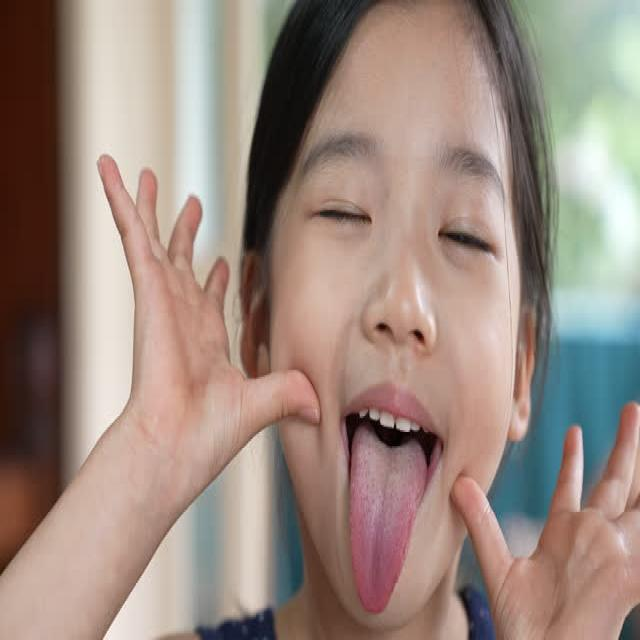tongue: (341, 418, 428, 622)
